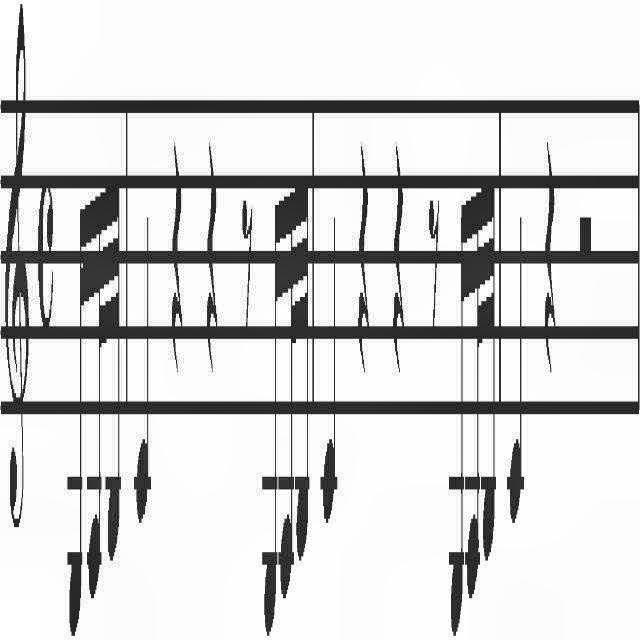Bass-clef: (4, 1, 32, 536)
Eighth-rest: (428, 191, 439, 345), (242, 190, 252, 338)
Quarter-note: (135, 196, 153, 536), (508, 200, 524, 552), (322, 215, 338, 550)
Quarter-rest: (542, 136, 558, 374), (170, 139, 182, 377), (358, 136, 370, 374), (206, 146, 218, 378), (392, 136, 403, 384)
Sixteenth-note: (449, 186, 466, 638), (68, 186, 84, 638), (264, 188, 280, 640)
